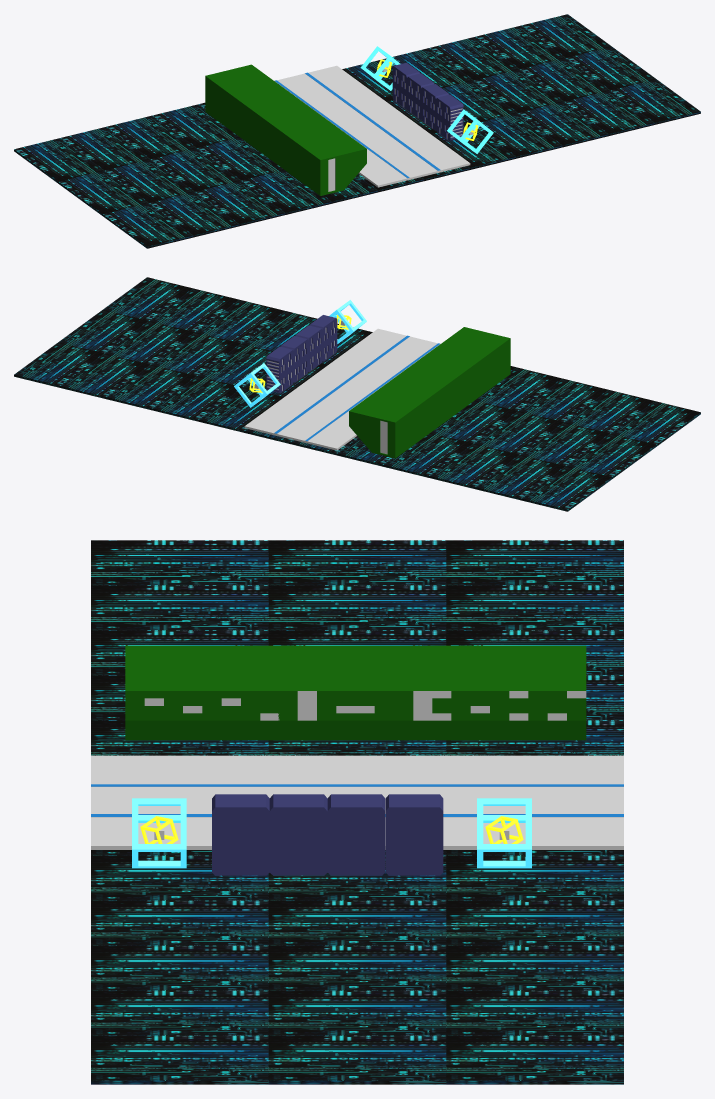
File: 30LengthTileset.fbx
The picture shows the model from 3 angles, top to bottom: view 1: azimuth 30°, elevation 25°; view 2: azimuth 150°, elevation 25°; view 3: azimuth 270°, elevation 25°; orthographic projection. The views are drawn at different scales.
Visible parts, largest first — view 1: Cube.044, Cube.021, Cube.037, Cube.030, Cube.034, Cube.028, Cube.036, Cube.040, Cube.038, Cube.039, Cube.009, Cube.029 (+23 smaller); view 2: Cube.044, Cube.021, Cube.038, Cube.029, Cube.031, Cube.025, Cube.035, Cube.042, Cube.037, Cube.039, Cube.012, Cube.014 (+24 smaller); view 3: Cube.044, Cube.021, Cube.041, Cube.040, Cube.042, Cube.010, Cube.026, Cube.032, Cube.033, Cube.039, Cube.009, Cube.012 (+26 smaller).
Part boxes in pixels (box(x1,y1,x2,y2)): Cube.044: box(205, 64, 366, 195); Cube.021: box(274, 65, 470, 187); Cube.037: box(102, 203, 193, 248); Cube.030: box(149, 192, 239, 237); Cube.034: box(564, 90, 654, 135); Cube.028: box(195, 180, 285, 225); Cube.036: box(518, 102, 608, 147); Cube.040: box(611, 79, 700, 124); Cube.038: box(14, 138, 103, 183); Cube.039: box(58, 170, 148, 215); Cube.009: box(478, 113, 562, 158); Cube.029: box(60, 127, 150, 170); Cube.044: box(349, 327, 510, 458); Cube.021: box(244, 328, 440, 450); Cube.038: box(521, 466, 612, 511); Cube.029: box(475, 455, 565, 500); Cube.031: box(60, 353, 150, 398); Cube.025: box(429, 443, 519, 488); Cube.035: box(106, 365, 196, 410); Cube.042: box(14, 342, 103, 387); Cube.037: box(611, 401, 700, 446); Cube.039: box(566, 433, 656, 478); Cube.012: box(152, 376, 242, 421); Cube.014: box(383, 433, 473, 477); Cube.044: box(125, 645, 586, 740); Cube.021: box(91, 755, 623, 849); Cube.041: box(268, 1035, 446, 1084); Cube.040: box(91, 1035, 268, 1084); Cube.042: box(446, 1035, 623, 1084); Cube.010: box(268, 900, 446, 945); Cube.026: box(268, 585, 446, 630); Cube.032: box(268, 945, 446, 990); Cube.033: box(268, 990, 446, 1035); Cube.039: box(268, 540, 446, 585); Cube.009: box(91, 900, 268, 945); Cube.012: box(446, 900, 623, 945).
Bounding box in the file's own units: 144 × 60 × 9.7.
